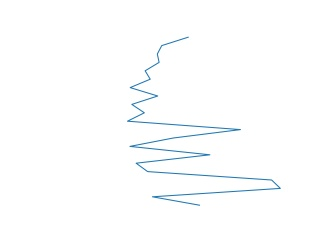crevasseRiverBedLagDeposit: (125, 33, 287, 209)
